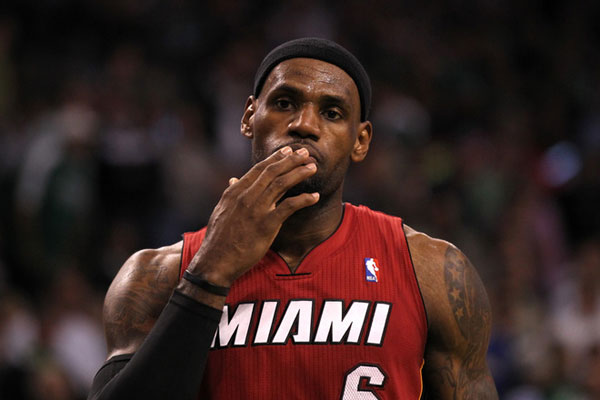face: (253, 58, 356, 186)
